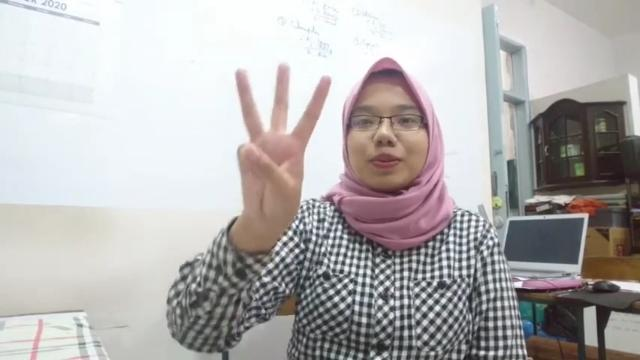W: (231, 61, 333, 224)
